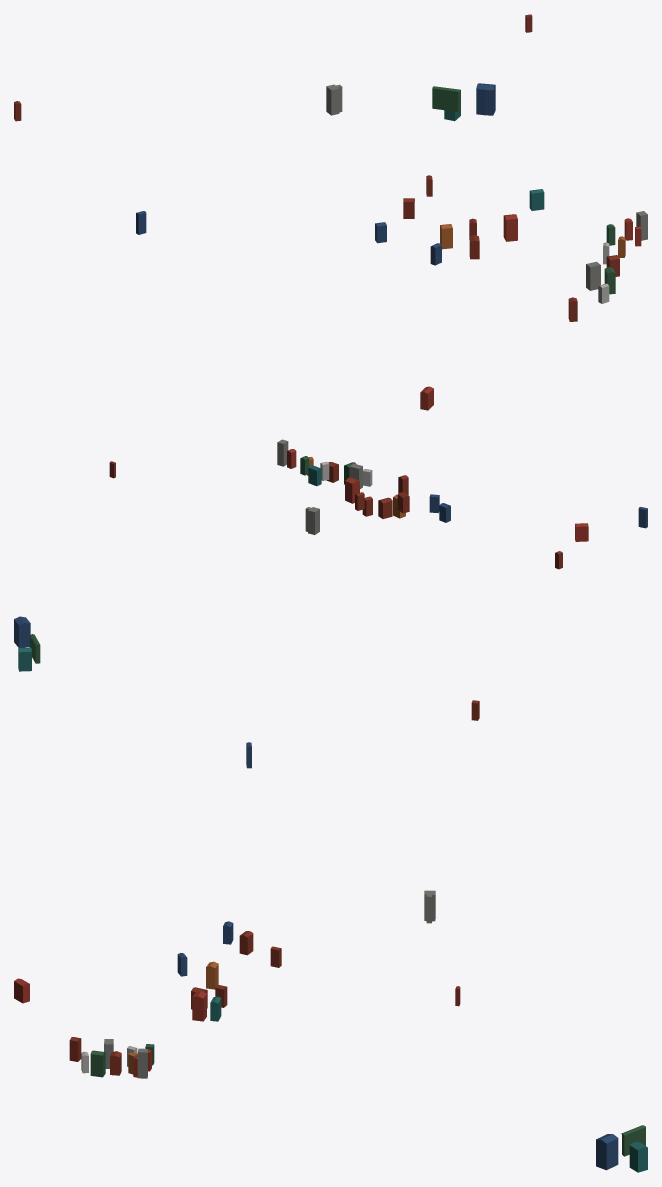
Rendered from near-16-54722-29729.cbe340f7.glb.
The picture shows the model from 3 angles, top to bottom: view 1: azimuth 30°, elevation 25°; view 2: azimuth 150°, elevation 25°; view 3: azimuth 270°, elevation 25°; orthographic projection. The views are drawn at different scales.
Bounding box in the file's own units: 576 × 200 × 557.
